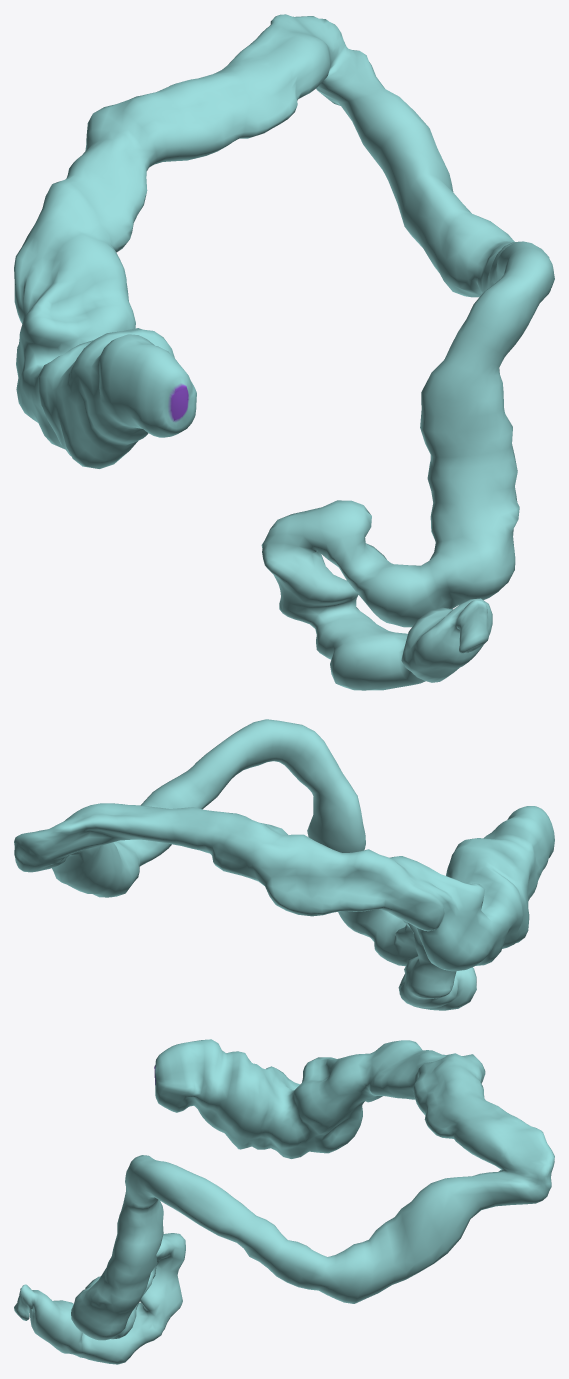
Rendered from Colon.FBX.
The picture shows the model from 3 angles, top to bottom: view 1: azimuth 30°, elevation 25°; view 2: azimuth 150°, elevation 25°; view 3: azimuth 270°, elevation 25°; orthographic projection. The views are drawn at different scales.
Parts seen in each view (by area): view 1: colon-Snapshot-Snapshot; view 2: colon-Snapshot-Snapshot; view 3: colon-Snapshot-Snapshot.
Part boxes in pixels (<box>): colon-Snapshot-Snapshot: <box>14,14,554,690</box>; colon-Snapshot-Snapshot: <box>14,719,554,1010</box>; colon-Snapshot-Snapshot: <box>14,1039,554,1364</box>.
Bounding box in the file's own units: 218 × 166 × 268.
